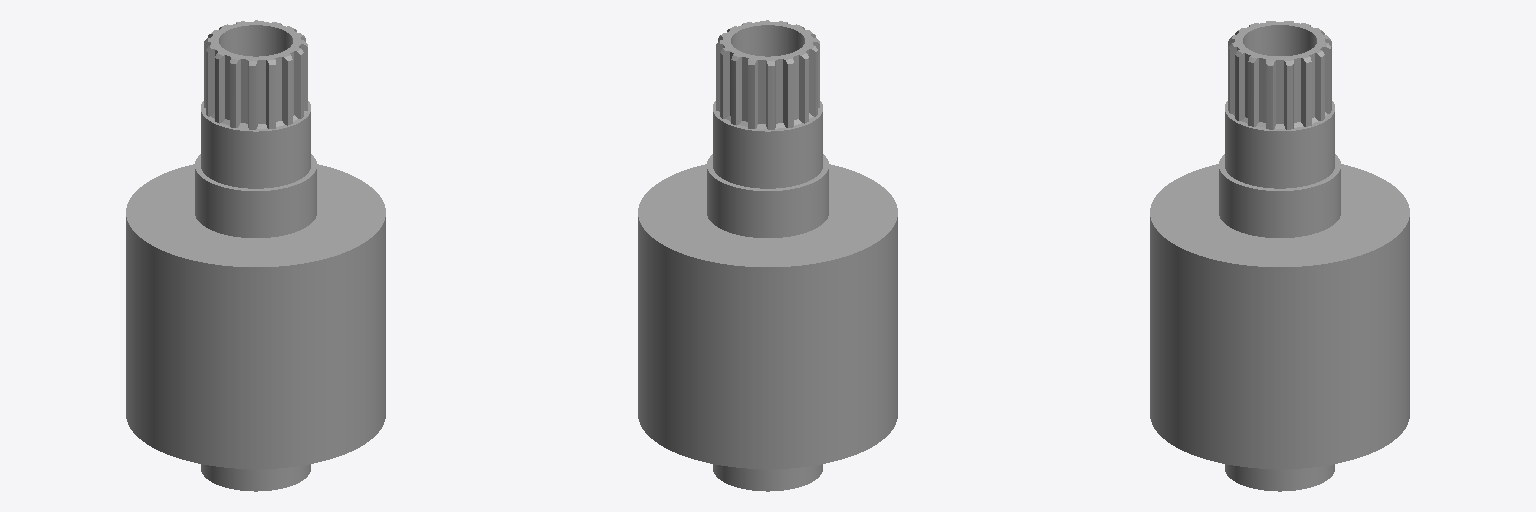
robot.urdf — Ro:
<robot name="Ro">
	<link name="baselink" />
	<joint name="dummy" type="fixed">
		<parent link="baselink" />
		<child link="geometry" />
	</joint>
	<link name="geometry">
		<contact>
			<lateral_friction value="1.0" />
			<spinning_friction value="0.2" />
			<rolling_friction value="0.001" />
			<contact_cfm value="0.0" />
			<contact_erp value="0.8" />
			<damping value="1000" />
			<stiffness value="30000" />
		</contact>
		<inertial>
			<origin rpy="0 0 0" xyz="-7.231991425254902e-16 1.3241674440607568e-15 47.7442237758738" />
			<mass value="1.0" />
			<inertia ixx="1" ixy="0" ixz="0" iyy="1" iyz="0" izz="1" />
		</inertial>
		<visual>
			<origin rpy="0 0 0" xyz="0 0 0" />
			<geometry>
				<mesh filename="mesh/Ro.stl" />
			</geometry>
			<material name="base">
				<color rgba="0.7 0.7 0.7 1" />
			</material>
		</visual>
		<collision>
			<origin rpy="0 0 0" xyz="0 0 0" />
			<geometry>
				<mesh filename="mesh/Ro.stl" />
			</geometry>
		</collision>
	</link>
</robot>

--- What the picture shows (computed from the rendered views, not written in the file) ---
3 views of the same robot in one strip: view 1: azimuth 30°, elevation 25°; view 2: azimuth 150°, elevation 25°; view 3: azimuth 270°, elevation 25° (orthographic).
Robot: Ro — 2 links, 1 joints (1 fixed); root link baselink; default pose: every joint at zero.
Visible links, largest first — view 1: geometry; view 2: geometry; view 3: geometry.
Link boxes in pixels (x1,y1,x2,y2): geometry: [126, 20, 385, 491]; geometry: [638, 20, 897, 491]; geometry: [1150, 21, 1409, 491].
Size in the robot's own frame: 70 by 70 by 127 metres.
1 mesh visuals loaded from 1 distinct referenced files (1 binary STL).
